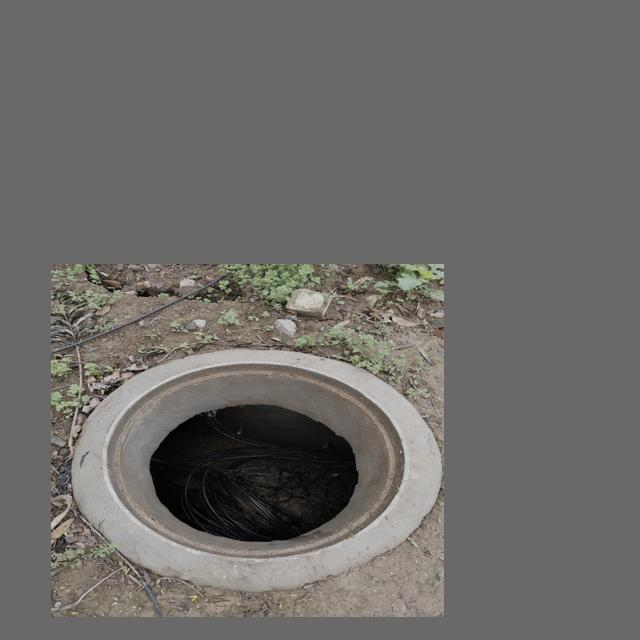lose: (85, 353, 389, 558)
